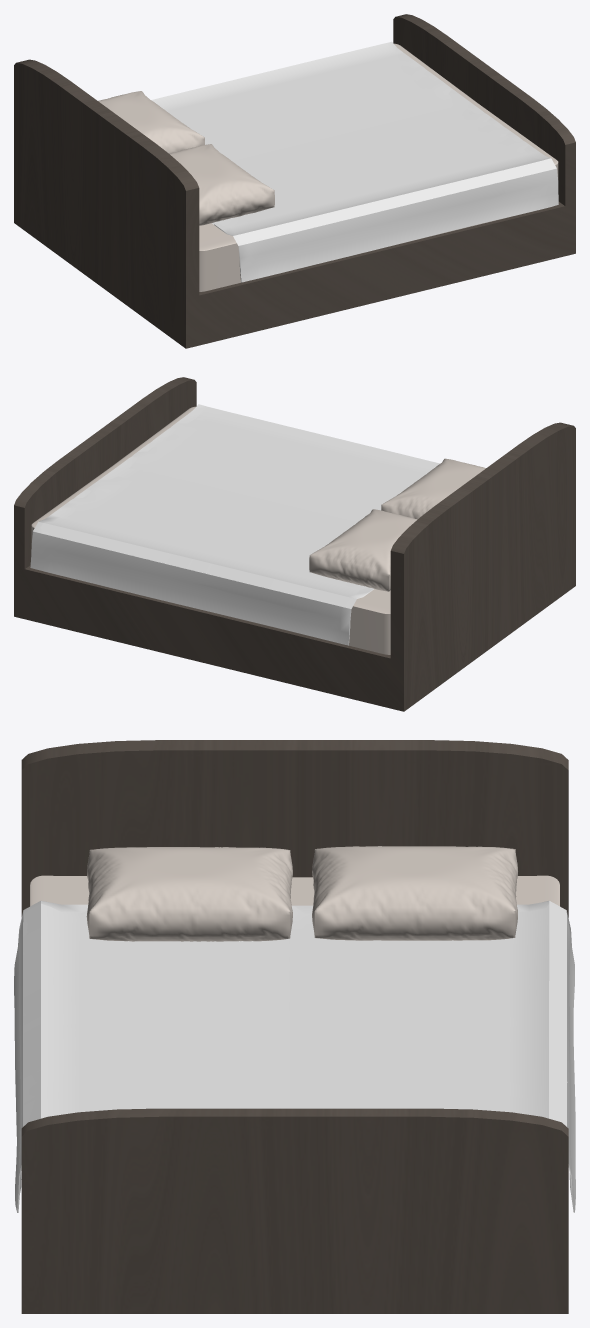
The model's file is sänky.fbx.
3 renders of one model, top to bottom at view 1: azimuth 30°, elevation 25°; view 2: azimuth 150°, elevation 25°; view 3: azimuth 270°, elevation 25°, orthographic. The views are drawn at different scales.
Visible parts, largest first — view 1: sänky runko uusi, Peitto, tyyny 1, PATJA, tyyny 1.001; view 2: sänky runko uusi, Peitto, tyyny 1.001, PATJA, tyyny 1; view 3: sänky runko uusi, Peitto, tyyny 1, tyyny 1.001, PATJA.
Part boxes in pixels (box(x1,y1,x2,y2)): sänky runko uusi: box(14, 14, 575, 348); Peitto: box(151, 41, 558, 282); tyyny 1: box(169, 144, 274, 225); PATJA: box(199, 43, 558, 291); tyyny 1.001: box(98, 91, 204, 153); sänky runko uusi: box(14, 377, 575, 711); Peitto: box(30, 404, 439, 645); tyyny 1.001: box(309, 509, 417, 591); PATJA: box(31, 406, 390, 654); tyyny 1: box(381, 458, 485, 519); sänky runko uusi: box(21, 740, 568, 1313); Peitto: box(14, 900, 575, 1212); tyyny 1: box(86, 847, 292, 941); tyyny 1.001: box(312, 846, 517, 940); PATJA: box(30, 875, 559, 906).
Bounding box in the file's own units: 233 × 97.26 × 183.
Materials: 3 (2 with a texture image).
